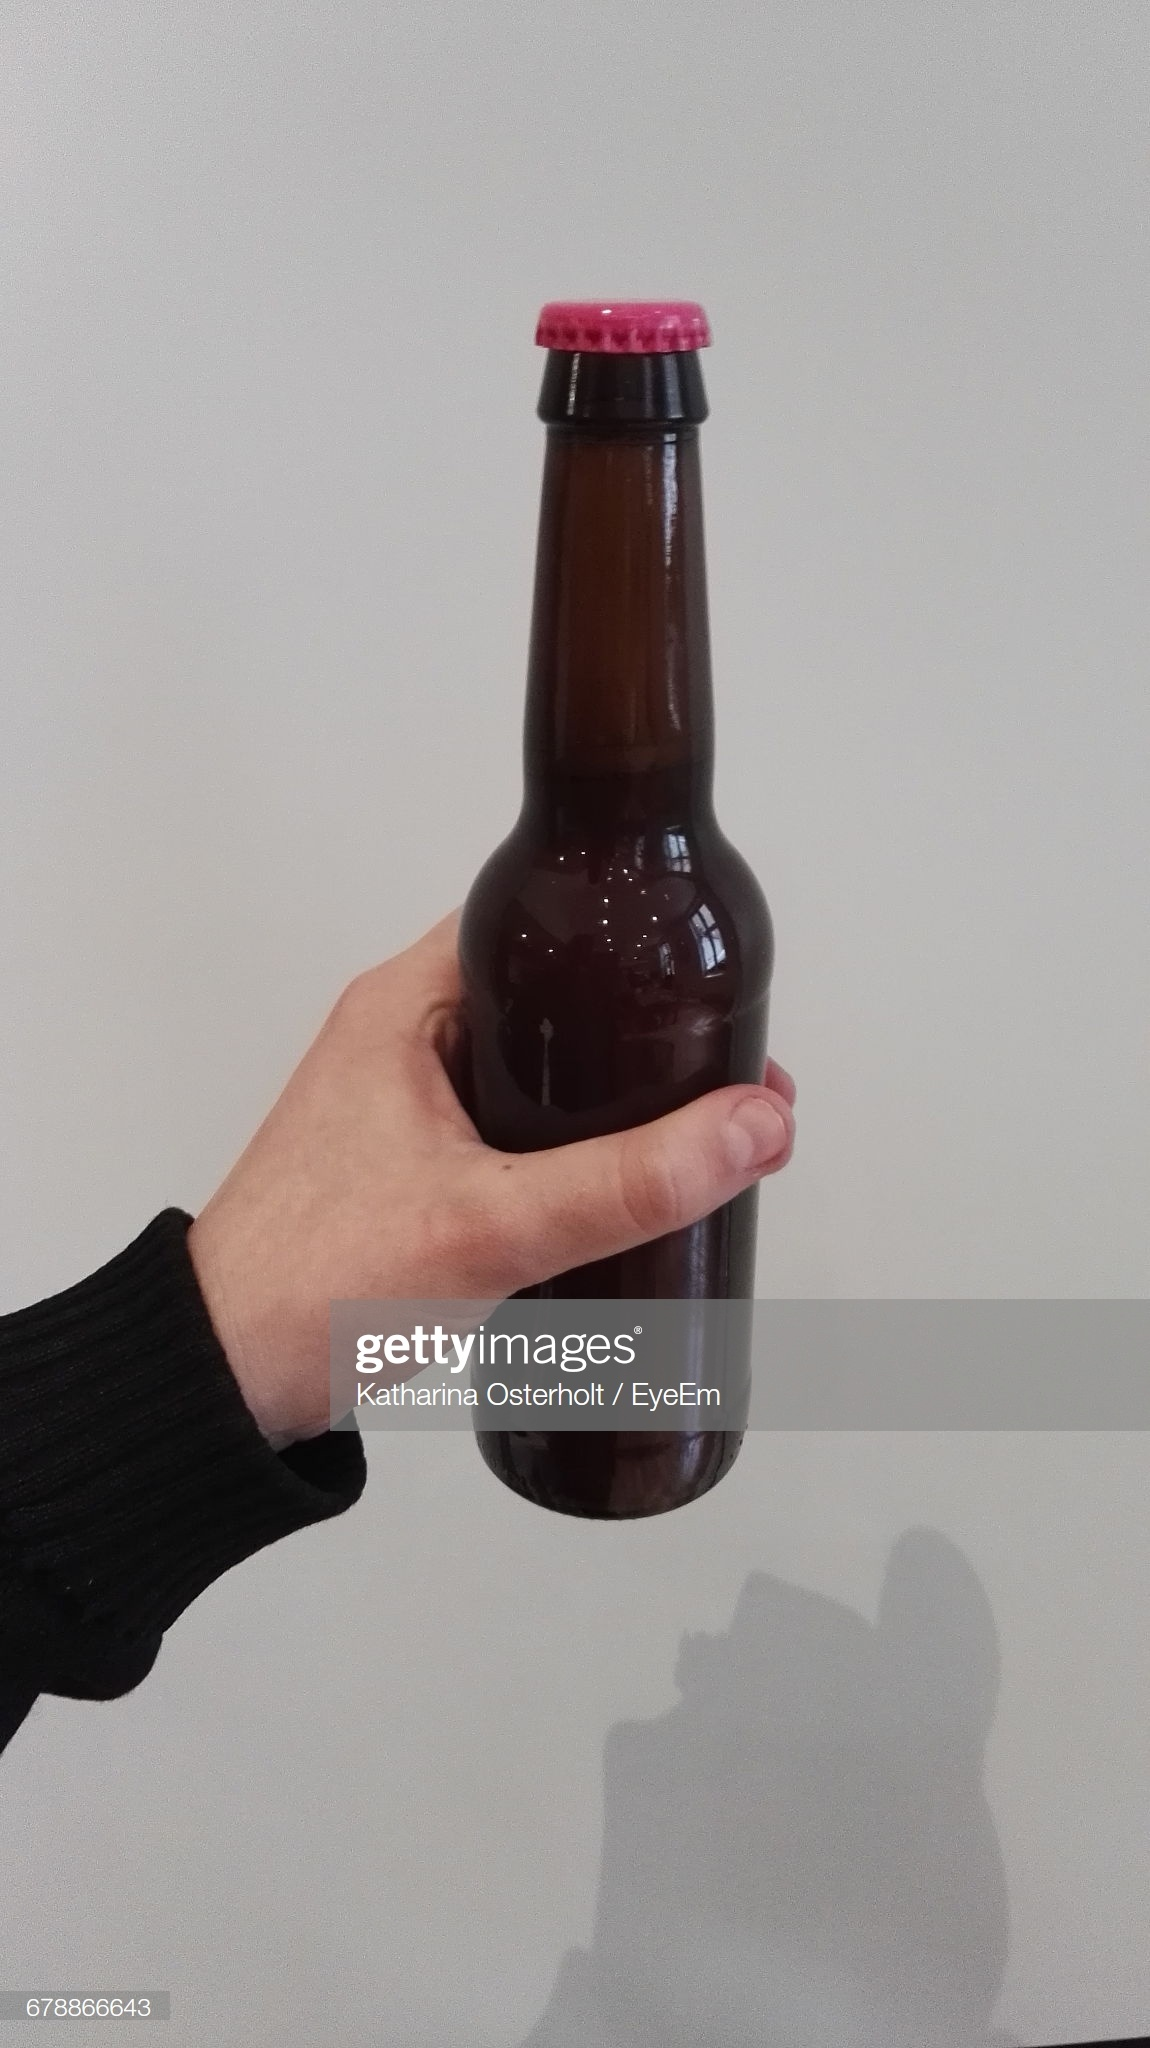beerBottle: (477, 321, 739, 1492)
